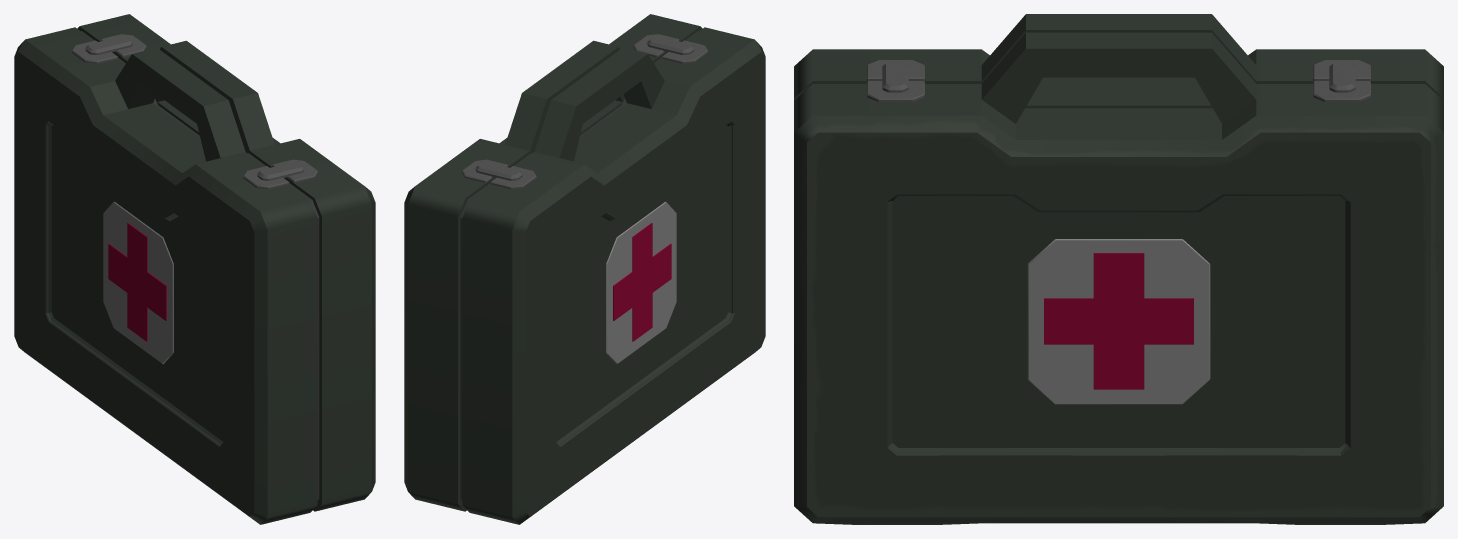
File: low_poly_medkit.glb
3 views of the same model, side by side, from view 1: azimuth 30°, elevation 25°; view 2: azimuth 150°, elevation 25°; view 3: azimuth 270°, elevation 25° (orthographic). The views are drawn at different scales.
Parts seen in each view (by area): view 1: polySurface10; view 2: polySurface10; view 3: polySurface10.
Boxes of the visible parts, <box> form: polySurface10: <box>14,14,375,524</box>; polySurface10: <box>404,14,765,524</box>; polySurface10: <box>794,14,1443,524</box>.
Size of the model in its own units: 0.1502 by 0.4258 by 0.535.
Materials: 5 (5 with a texture image).
